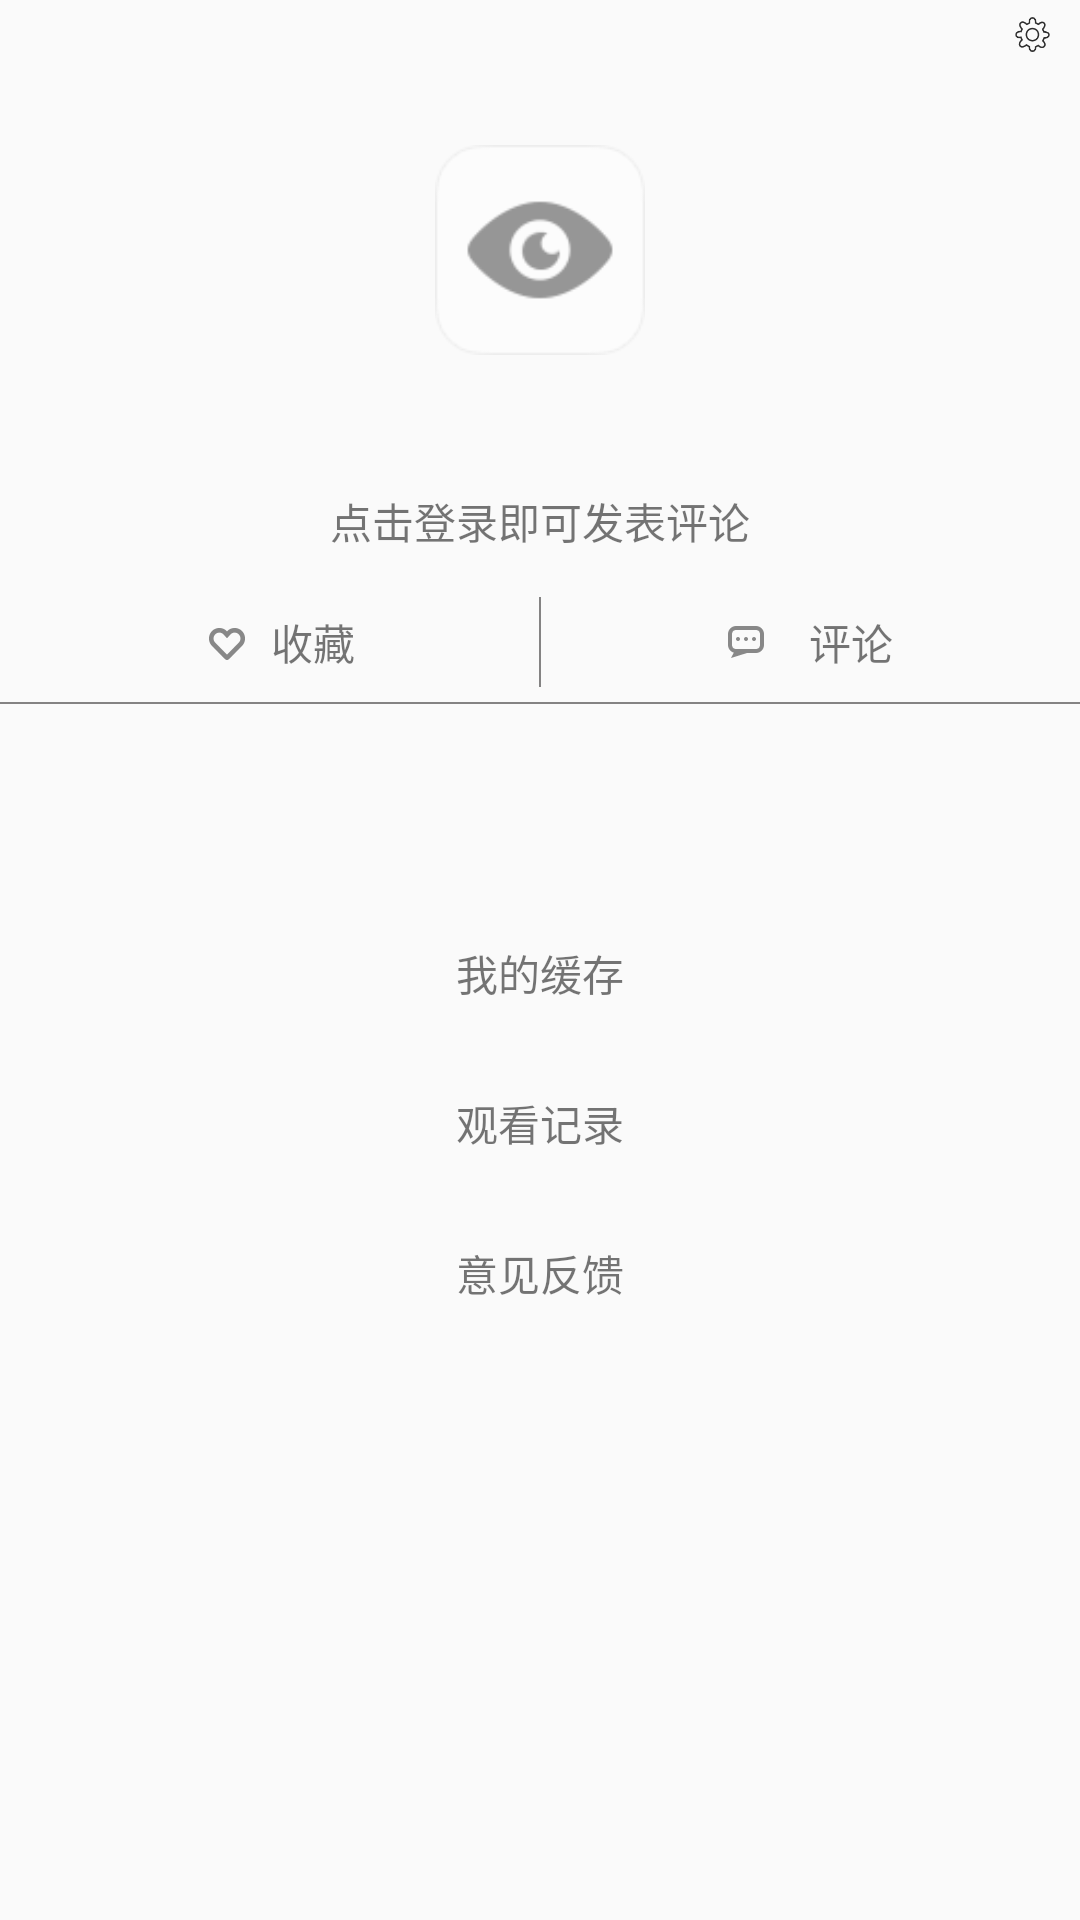

Screen size 1080x1920. Icon name, then its center in pixels as (x,y):
heart: (227,644)
reply without padding: (746,642)
setting: (1032,34)
